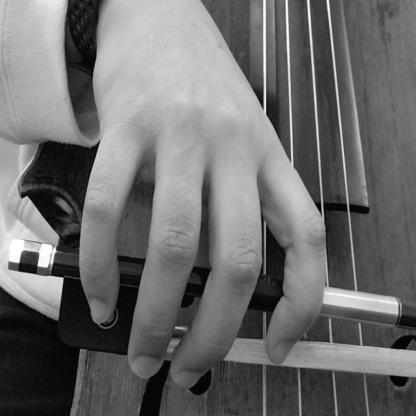good: (60, 90, 338, 394)
